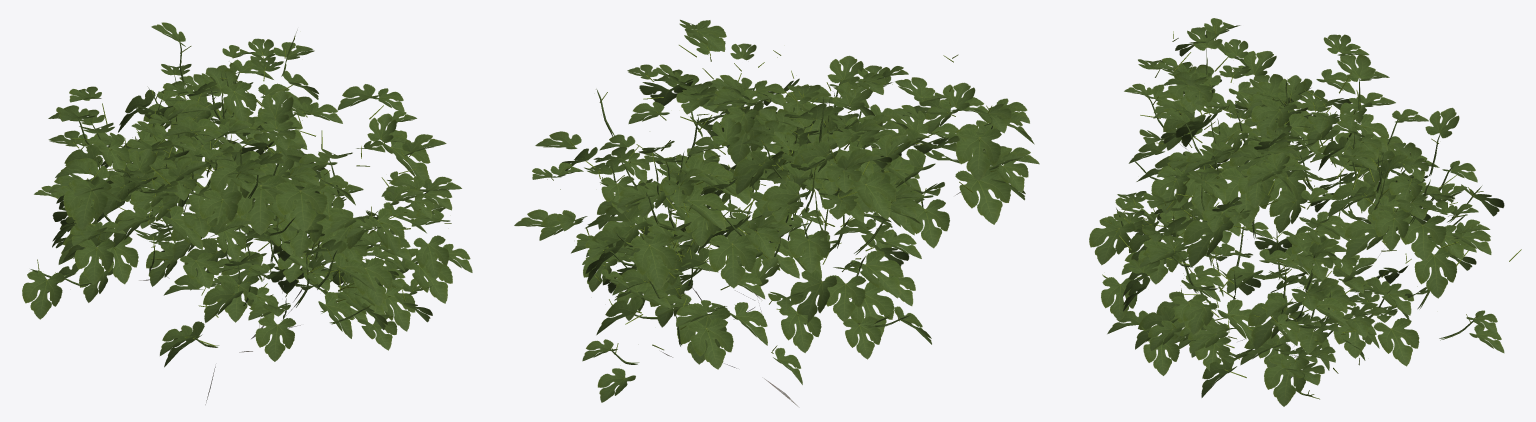
The model's file is fig_bush.glb.
3 views of the same model, side by side, from view 1: azimuth 30°, elevation 25°; view 2: azimuth 150°, elevation 25°; view 3: azimuth 270°, elevation 25° (orthographic). The views are drawn at different scales.
Visible parts, largest first — view 1: Ficus_carica_HD_Ficus car lf stk 01 y1_0; view 2: Ficus_carica_HD_Ficus car lf stk 01 y1_0; view 3: Ficus_carica_HD_Ficus car lf stk 01 y1_0.
Boxes of the visible parts, x1,y1,x2,y2 form: Ficus_carica_HD_Ficus car lf stk 01 y1_0: (22,22,472,404); Ficus_carica_HD_Ficus car lf stk 01 y1_0: (514,19,1039,407); Ficus_carica_HD_Ficus car lf stk 01 y1_0: (1089,18,1521,406).
Bounding box in the file's own units: 2.54 × 1.73 × 2.21.
3 materials, 3 textured.
